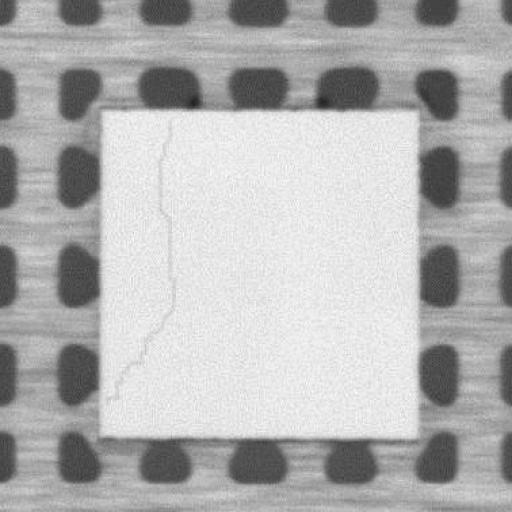DIE_CRACK: (113, 119, 176, 400)
